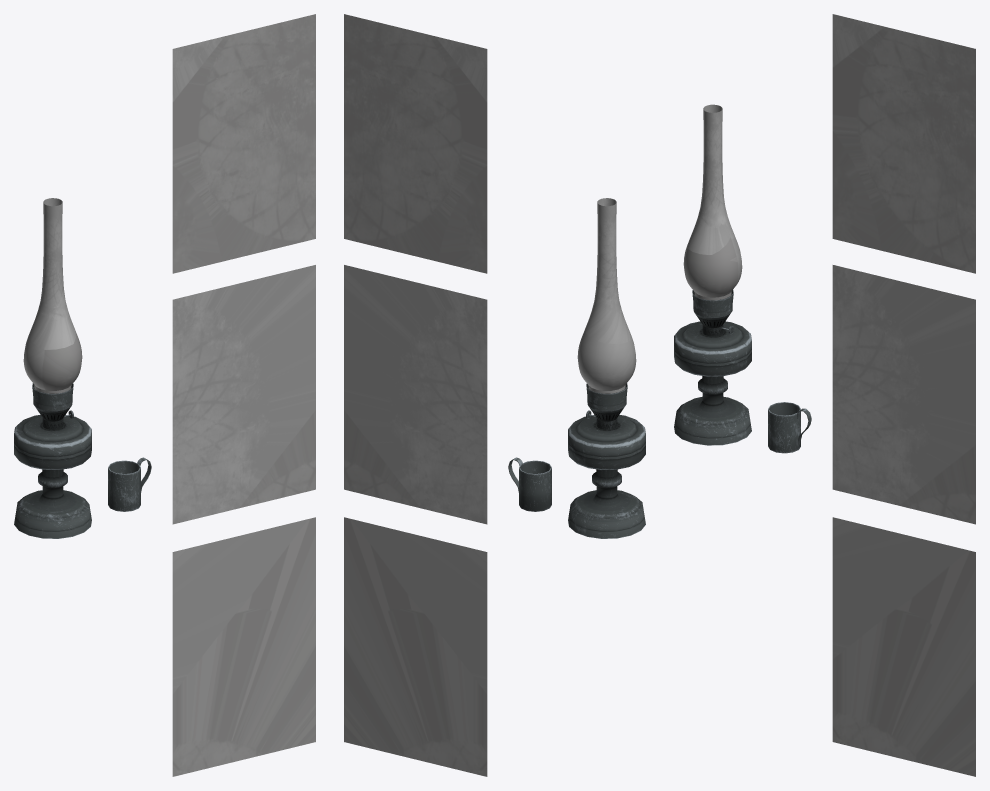
File: Lamp and Glass.FBX
The picture shows the model from 3 angles, left to right: view 1: azimuth 30°, elevation 25°; view 2: azimuth 150°, elevation 25°; view 3: azimuth 330°, elevation 25°; orthographic projection.
Parts seen in each view (by area): view 1: Glass 1, Glass 2, Glass 3, Lamp Lowpoly, Cup; view 2: Glass 1, Glass 2, Glass 3, Lamp Lowpoly, Cup; view 3: Glass 3, Glass 1, Glass 2, Lamp Lowpoly, Cup.
Boxes of the visible parts, <box> form: Glass 1: <box>172,14,315,273</box>; Glass 2: <box>172,265,315,524</box>; Glass 3: <box>172,517,315,776</box>; Lamp Lowpoly: <box>14,198,91,538</box>; Cup: <box>108,457,151,511</box>; Glass 1: <box>344,14,487,273</box>; Glass 2: <box>344,265,487,524</box>; Glass 3: <box>344,517,487,776</box>; Lamp Lowpoly: <box>568,198,645,538</box>; Cup: <box>508,457,551,511</box>; Glass 3: <box>832,517,975,776</box>; Glass 1: <box>832,14,975,273</box>; Glass 2: <box>832,265,975,524</box>; Lamp Lowpoly: <box>674,104,751,445</box>; Cup: <box>768,402,811,453</box>.
Bounding box in the file's own units: 41.48 × 97.14 × 9.51.
